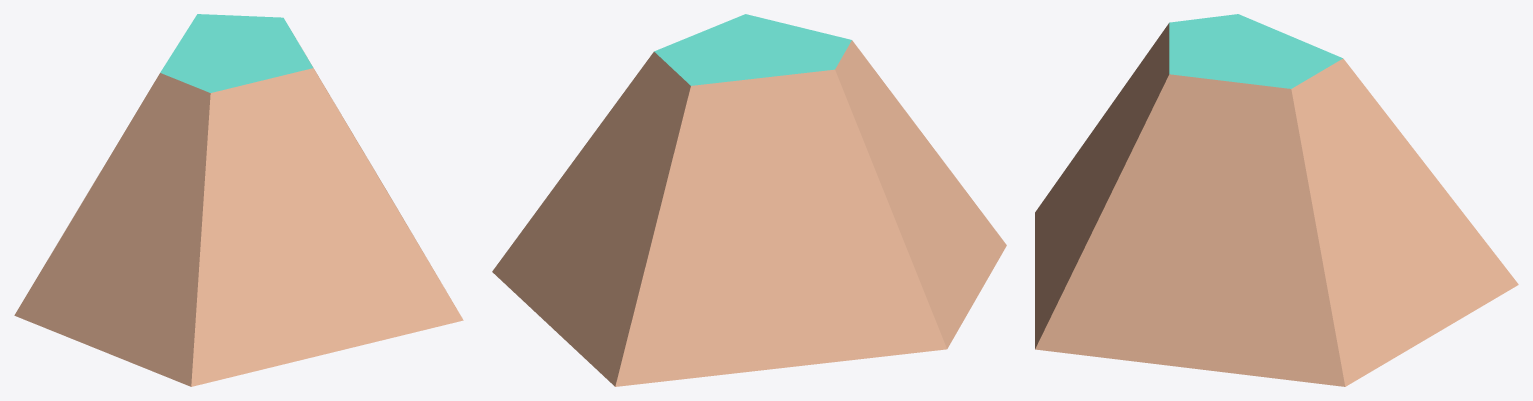
The picture shows the model from 3 angles, left to right: view 1: azimuth 30°, elevation 25°; view 2: azimuth 150°, elevation 25°; view 3: azimuth 270°, elevation 25°; orthographic projection. The views are drawn at different scales.
Parts seen in each view (by area): view 1: rock_smallA; view 2: rock_smallA; view 3: rock_smallA.
Part boxes in pixels (bbox=[...]): rock_smallA: bbox=[14, 14, 463, 386]; rock_smallA: bbox=[492, 14, 1006, 386]; rock_smallA: bbox=[1035, 14, 1518, 386].
Size of the model in its own units: 0.3608 by 0.1912 by 0.3608.
